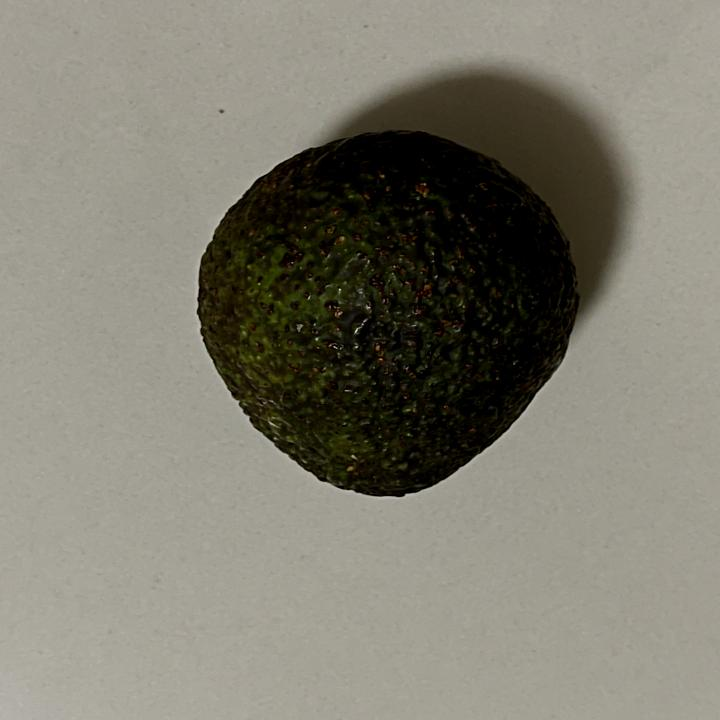Level1: (176, 122, 594, 512)
